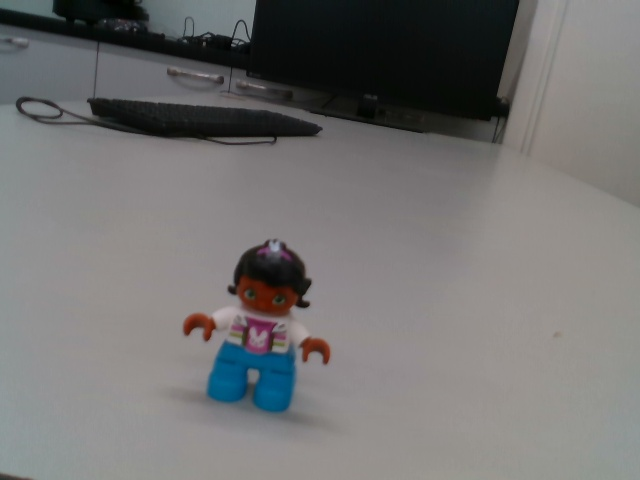people: (180, 239, 335, 416)
